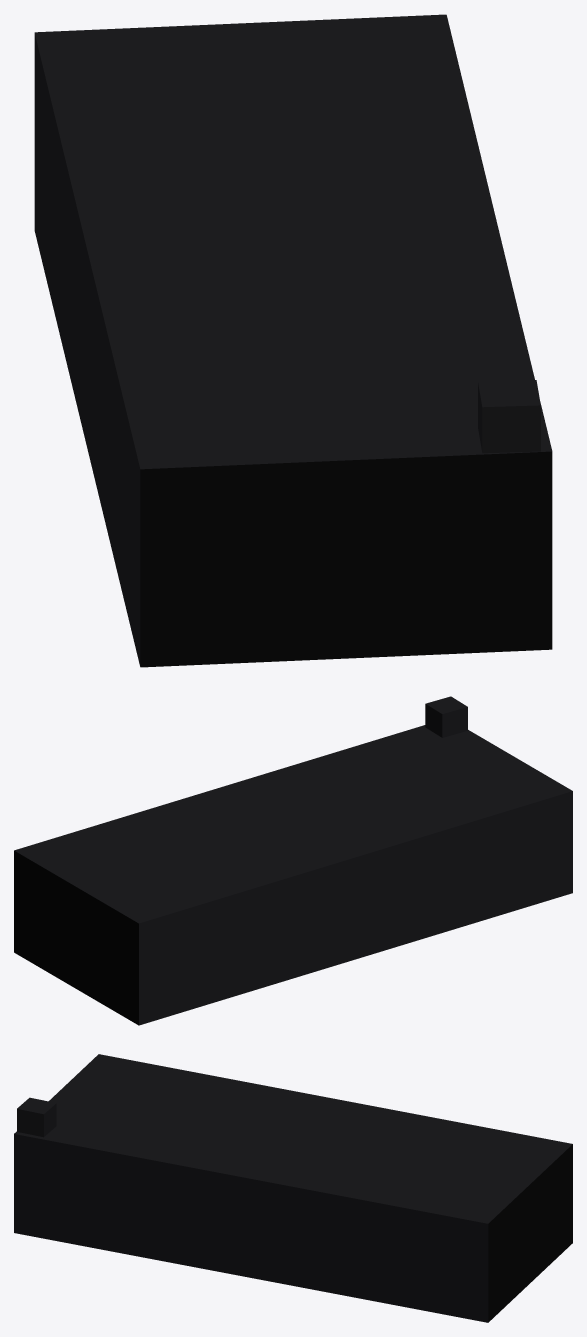
The model's file is union-gospel-mission-in-chattanooga-tn-usa.glb.
3 views of the same model, one above another, from view 1: azimuth 30°, elevation 25°; view 2: azimuth 150°, elevation 25°; view 3: azimuth 270°, elevation 25° (orthographic). The views are drawn at different scales.
Visible parts, largest first — view 1: LOD0; view 2: LOD0; view 3: LOD0.
Boxes of the visible parts, <box> form: LOD0: <box>34,14,552,667</box>; LOD0: <box>14,696,572,1025</box>; LOD0: <box>14,1054,572,1322</box>.
Size of what is drawn, in the model's own units: 30.34 by 10.18 by 42.23.
1 material, 1 textured.
